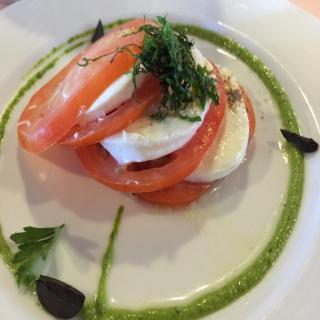tomato: (14, 16, 164, 157), (77, 56, 225, 192), (131, 84, 256, 210), (58, 72, 165, 146)
